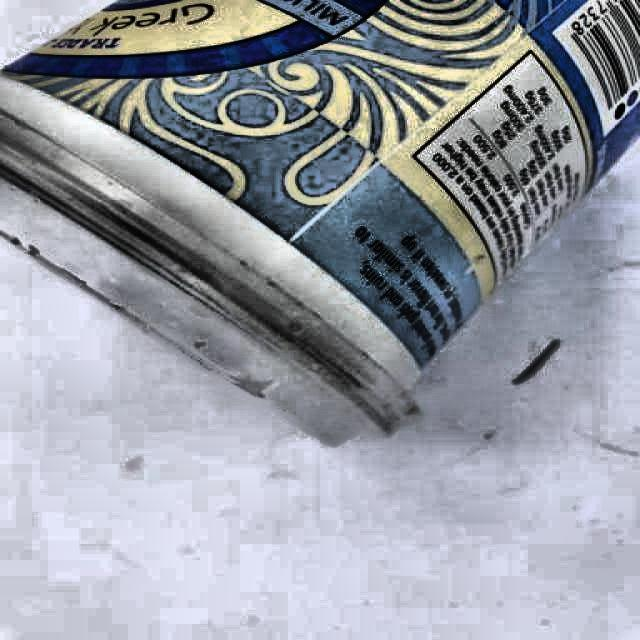plastic: (0, 0, 640, 441)
